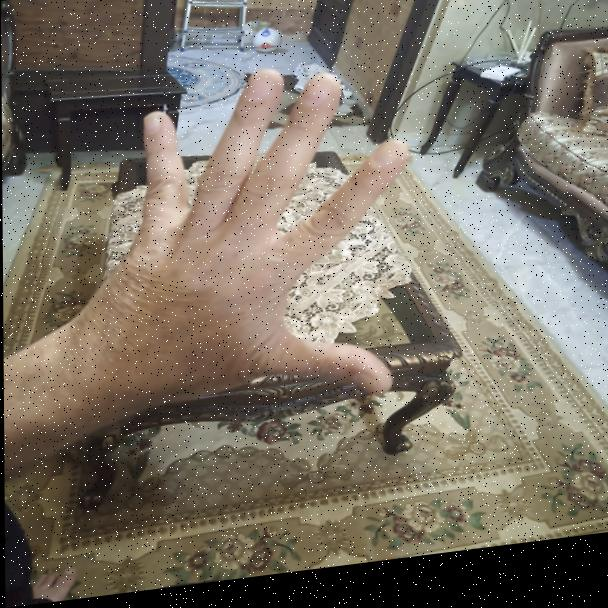five: (64, 61, 414, 440)
